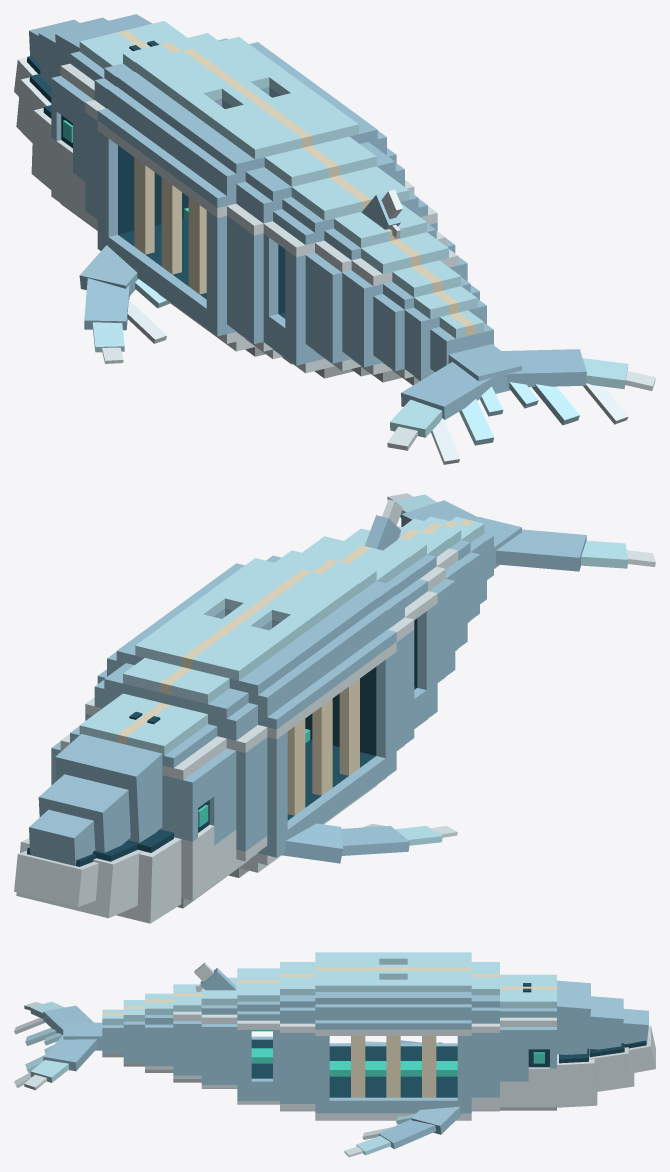
File: PhantomWhale.obj
3 views of the same model, one above another, from view 1: azimuth 30°, elevation 25°; view 2: azimuth 150°, elevation 25°; view 3: azimuth 270°, elevation 25° (orthographic). The views are drawn at different scales.
Parts seen in each view (by area): view 1: Chest, Fluke, Head, T2, T1, T3, T4, FlipperL, T5, T6, T7; view 2: Chest, Head, Fluke, T2, T1, T3, FlipperL, T4, T5, T6; view 3: Chest, Head, T2, T1, Fluke, T3, T4, FlipperR, T5, T6, T7.
Part boxes in pixels (box(x1,y1,x2,y2)): Chest: box(85, 33, 396, 356); Fluke: box(387, 344, 655, 464); Head: box(14, 14, 187, 230); T2: box(263, 166, 437, 378); T1: box(227, 136, 414, 364); T3: box(305, 189, 455, 376); T4: box(342, 232, 467, 382); FlipperL: box(79, 245, 170, 363); T5: box(373, 260, 479, 385); T6: box(404, 286, 486, 380); T7: box(430, 310, 493, 371); Chest: box(85, 558, 396, 877); Head: box(14, 693, 236, 923); Fluke: box(387, 493, 655, 571); T2: box(302, 536, 437, 728); T1: box(266, 550, 414, 750); T3: box(344, 499, 455, 682); FlipperL: box(280, 823, 457, 863); T4: box(397, 526, 467, 650); T5: box(402, 518, 479, 622); T6: box(425, 516, 486, 603); Chest: box(315, 952, 499, 1120); Head: box(500, 974, 655, 1110); T2: box(237, 968, 279, 1104); T1: box(280, 962, 315, 1111); Fluke: box(14, 1001, 102, 1090); T3: box(194, 962, 237, 1088); T4: box(173, 984, 201, 1082); FlipperR: box(344, 1106, 462, 1157); T5: box(145, 993, 173, 1072); T6: box(123, 1000, 144, 1066); T7: box(102, 1009, 123, 1057).
Size of the model in its own units: 18.69 by 10.94 by 45.19.
1 material, 1 textured.
